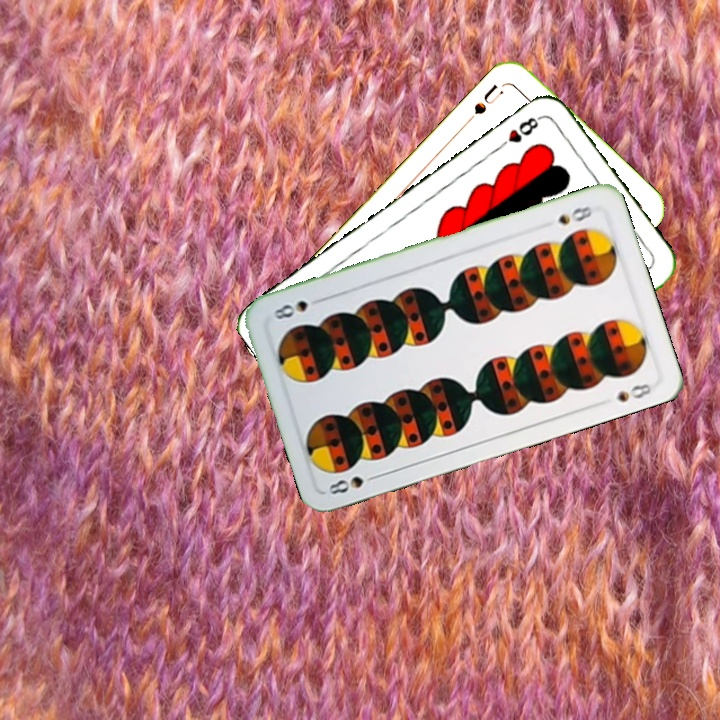H8: (494, 111, 545, 152)
S8: (324, 470, 382, 497), (553, 202, 595, 228)
SU: (462, 79, 508, 126)
